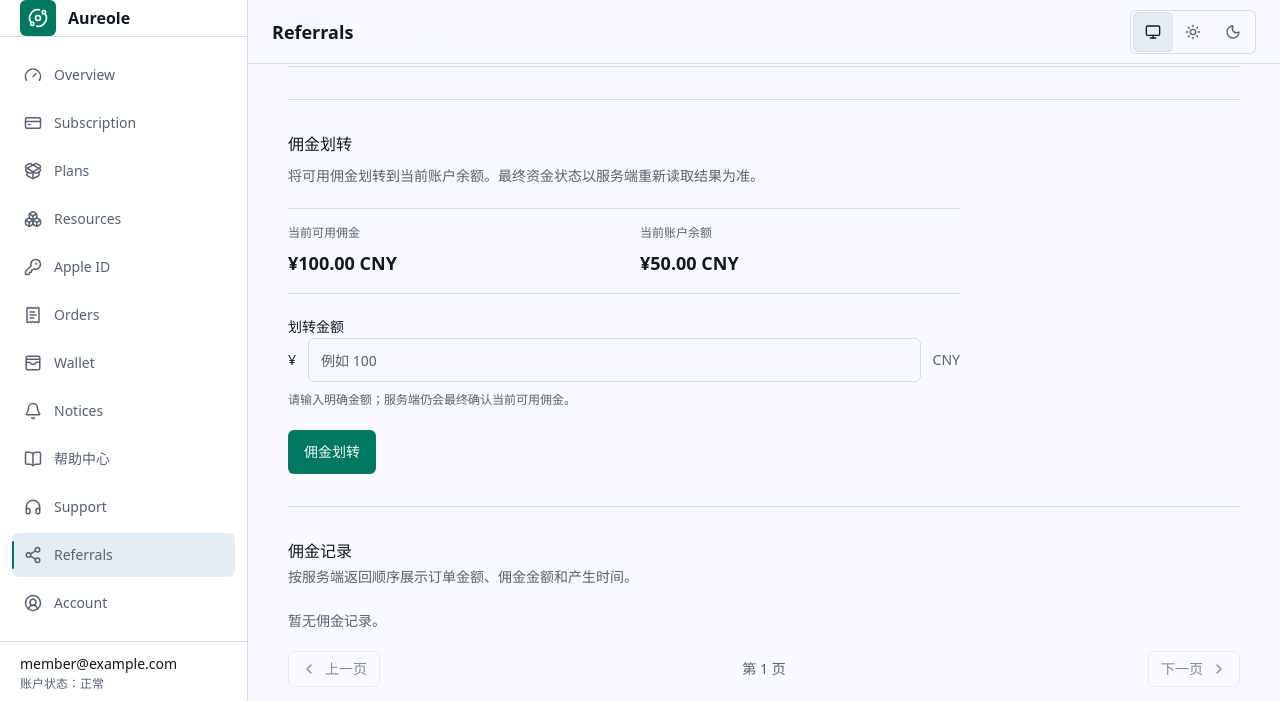
Test: Commission Transfer outcomes and reconciliation › preserves confirmed success and refetches only Overview and Wallet
(page scrolled)
Type "10" into the field labelled "划转金额".
click(614, 360); type("10")  # box top-left (308, 338), bottom-right (921, 382)
(page scrolled)
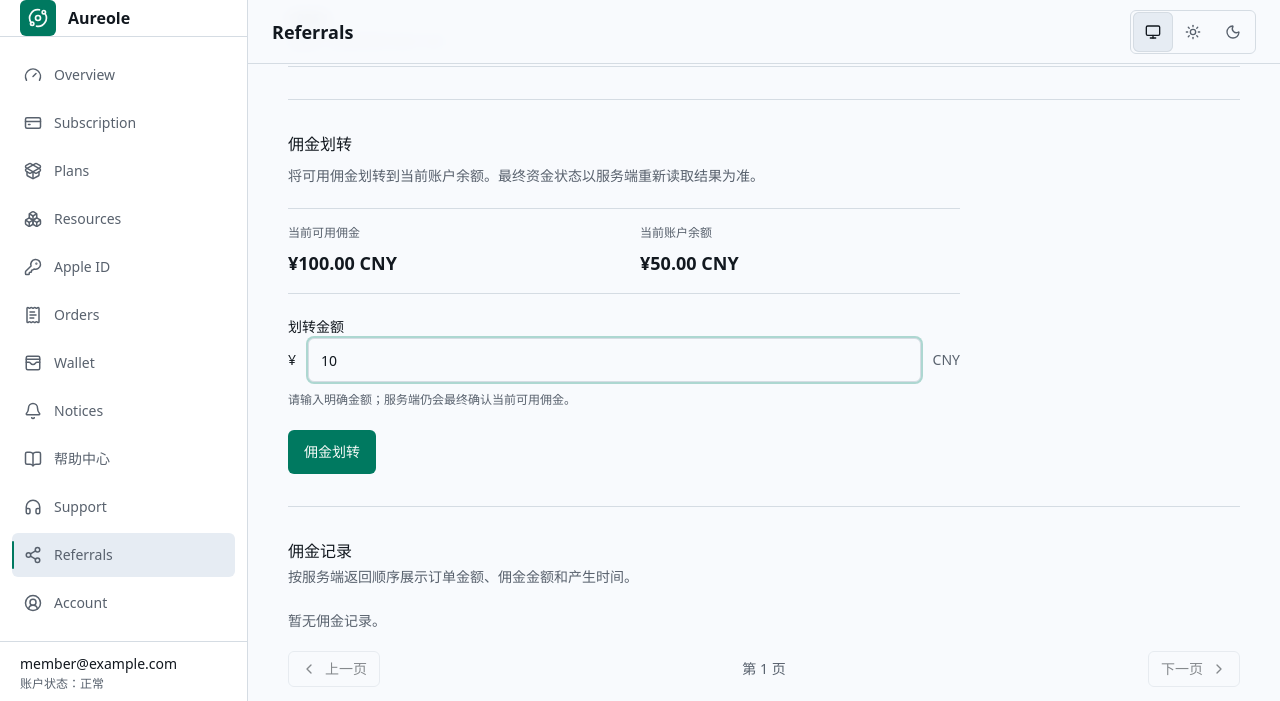
Click the button "佣金划转".
click(332, 452)  # box top-left (288, 430), bottom-right (376, 474)
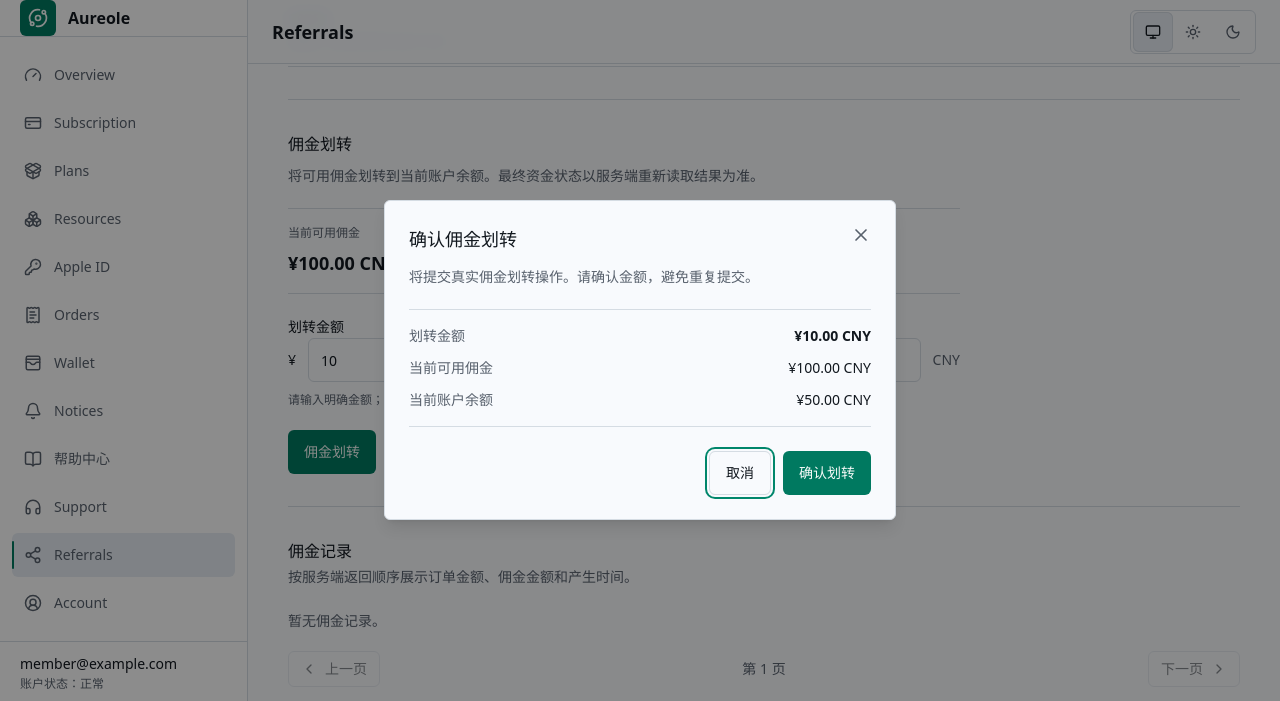
Click the button "确认划转".
click(827, 473)  # box top-left (783, 451), bottom-right (871, 495)
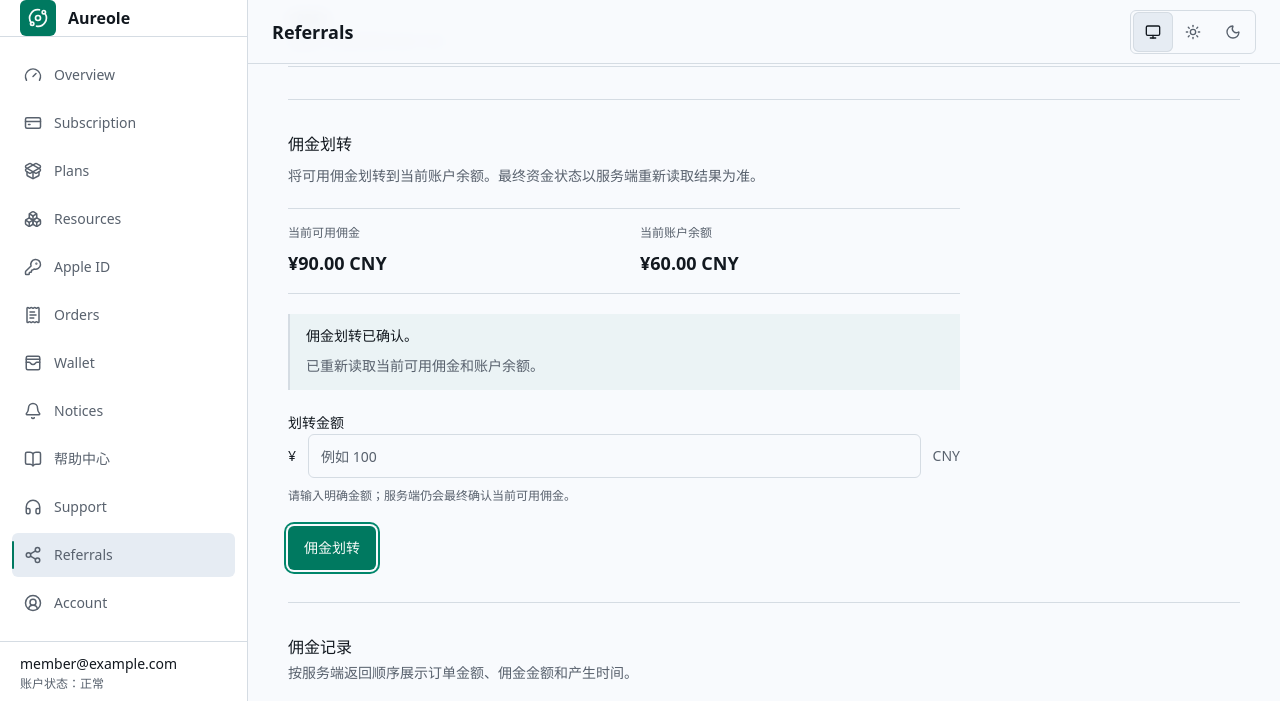
Check: the text "佣金划转已确认。" is shown, box top-left (306, 326), bottom-right (418, 345)
Check: the text "已重新读取当前可用佣金和账户余额。" is shown, box top-left (306, 356), bottom-right (544, 375)
